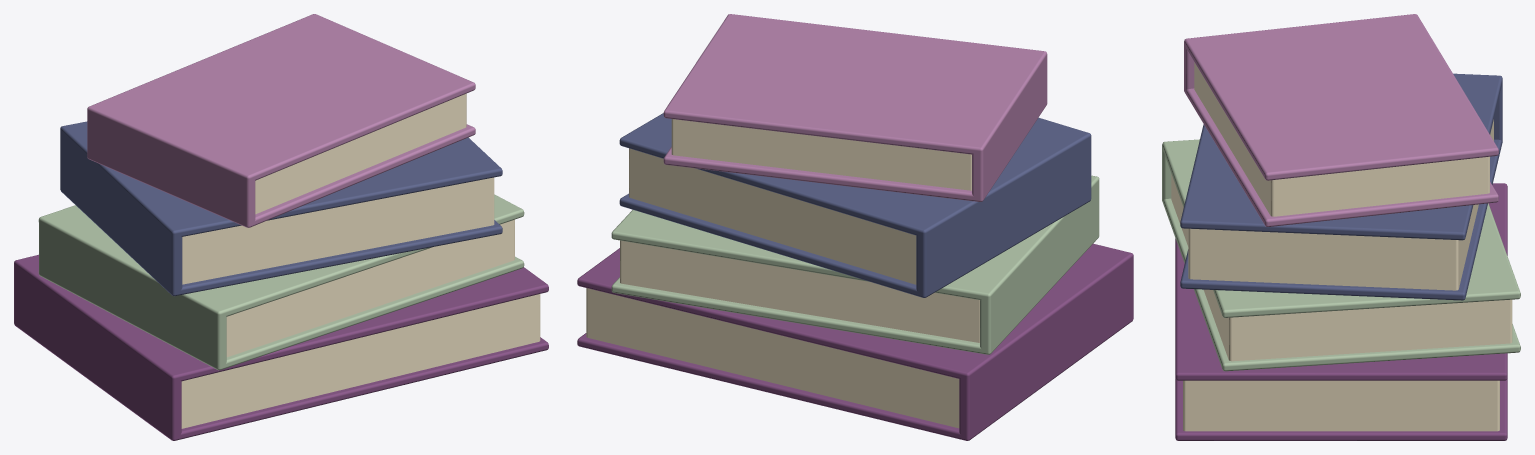
Rendered from Floor_Book_Pile.fbx.
3 views of the same model, side by side, from view 1: azimuth 30°, elevation 25°; view 2: azimuth 150°, elevation 25°; view 3: azimuth 270°, elevation 25° (orthographic). The views are drawn at different scales.
Visible parts, largest first — view 1: Floor_Book_Pile_Mesh; view 2: Floor_Book_Pile_Mesh; view 3: Floor_Book_Pile_Mesh.
Boxes of the visible parts, x1,y1,x2,y2 form: Floor_Book_Pile_Mesh: (14, 14, 548, 440); Floor_Book_Pile_Mesh: (577, 14, 1133, 440); Floor_Book_Pile_Mesh: (1162, 14, 1520, 440).
Bounding box in the file's own units: 0.3 × 0.185 × 0.2375.
